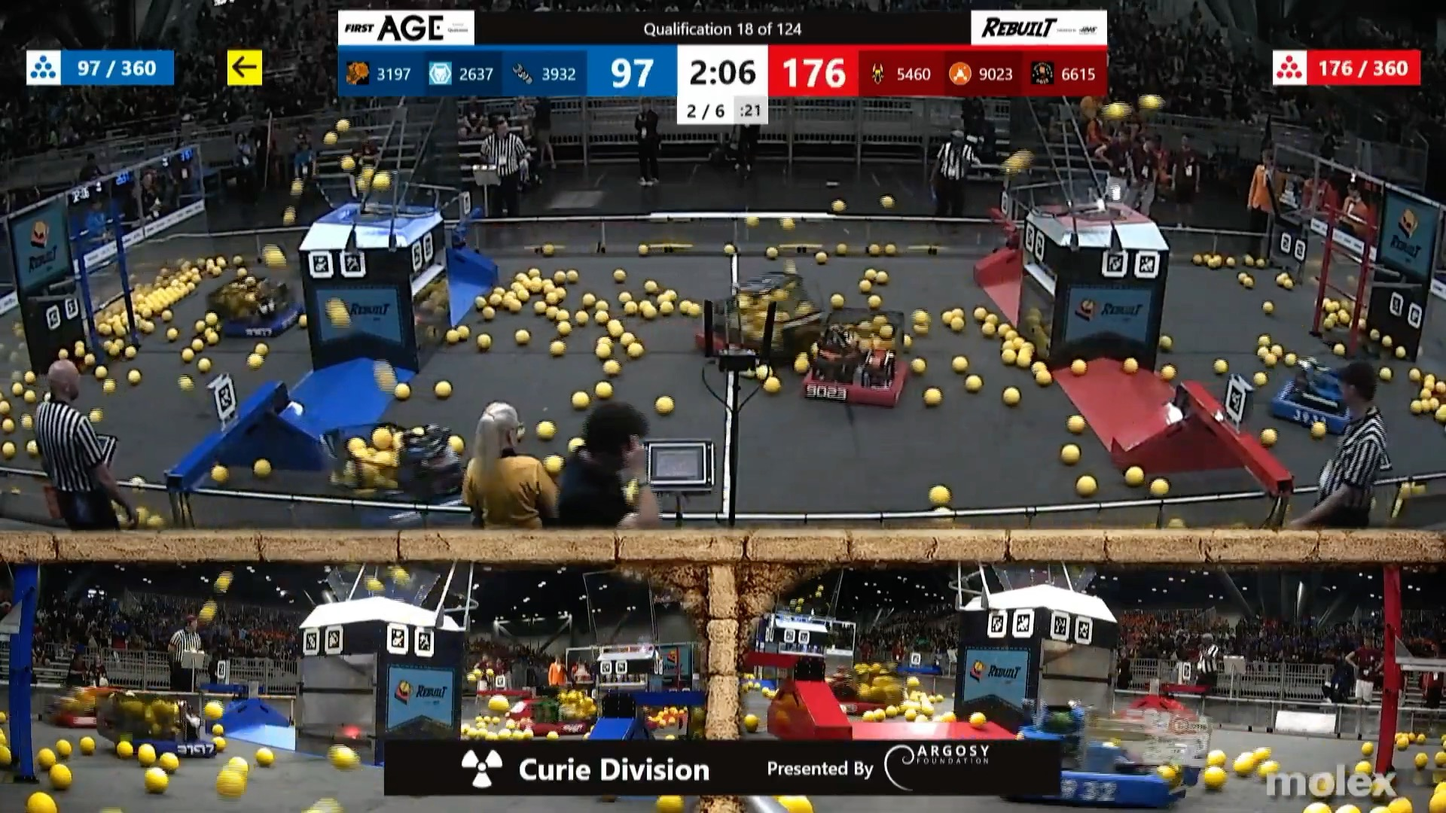bumpers: (1259, 376, 1380, 437), (793, 358, 914, 410), (697, 324, 813, 369), (108, 723, 229, 766), (1062, 766, 1175, 808), (208, 301, 315, 343), (50, 709, 98, 734)
